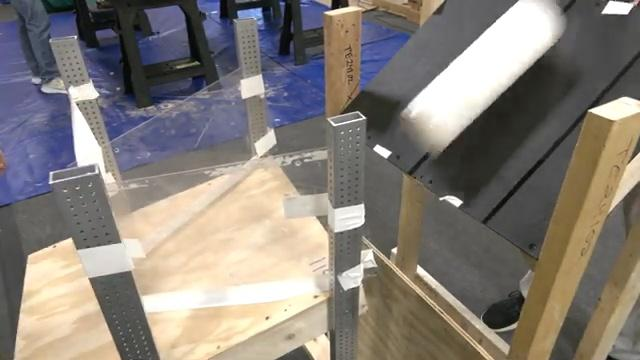CORAL: (396, 0, 567, 159)
